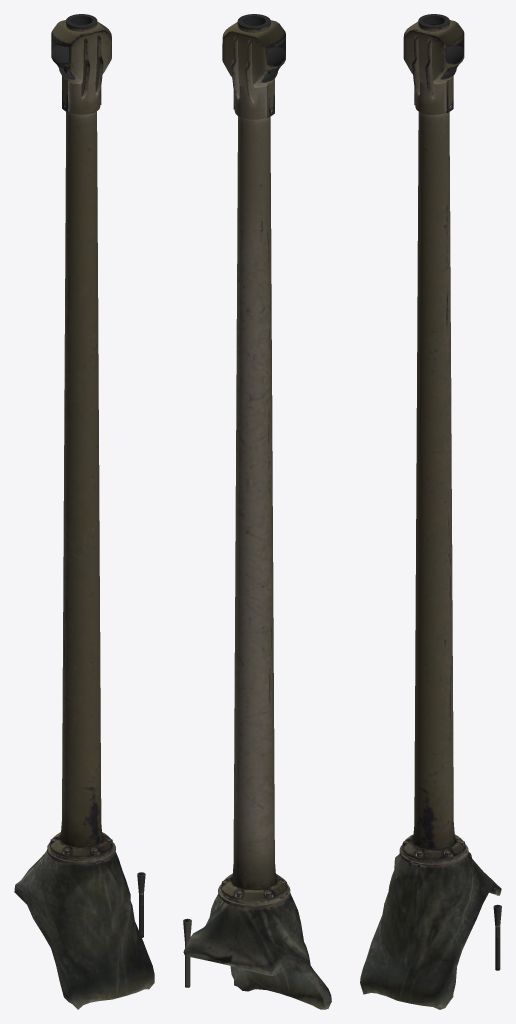
The model's file is Gun_06.glb.
3 views of the same model, side by side, from view 1: azimuth 30°, elevation 25°; view 2: azimuth 150°, elevation 25°; view 3: azimuth 330°, elevation 25° (orthographic). The views are drawn at different scales.
Visible parts, largest first — view 1: set_0_group_0; view 2: set_0_group_0; view 3: set_0_group_0.
Part boxes in pixels (box(x1,y1,x2,y2)): set_0_group_0: box(14, 14, 154, 1009); set_0_group_0: box(183, 14, 331, 1009); set_0_group_0: box(360, 14, 501, 1009).
Size of the model in its own units: 0.6514 by 5.42 by 0.6362.
1 material, 1 textured.
